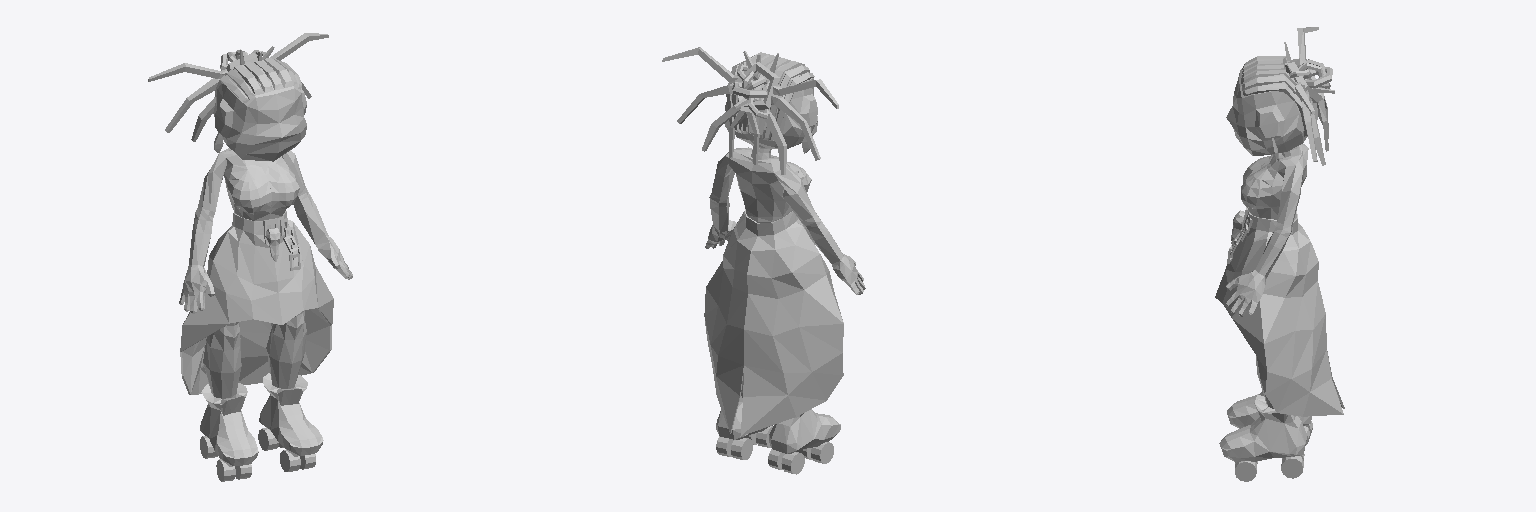
Rendered from bruja_000001.obj.
3 renders of one model, left to right at view 1: azimuth 30°, elevation 25°; view 2: azimuth 150°, elevation 25°; view 3: azimuth 270°, elevation 25°, orthographic.
Visible parts, largest first — view 1: Bruja_Plane.001; view 2: Bruja_Plane.001; view 3: Bruja_Plane.001.
Part boxes in pixels (left/top/right/bottom): Bruja_Plane.001: left=148, top=33, right=352, bottom=481; Bruja_Plane.001: left=662, top=47, right=865, bottom=474; Bruja_Plane.001: left=1215, top=27, right=1344, bottom=481.
Bounding box in the file's own units: 7.48 × 16.61 × 4.73.